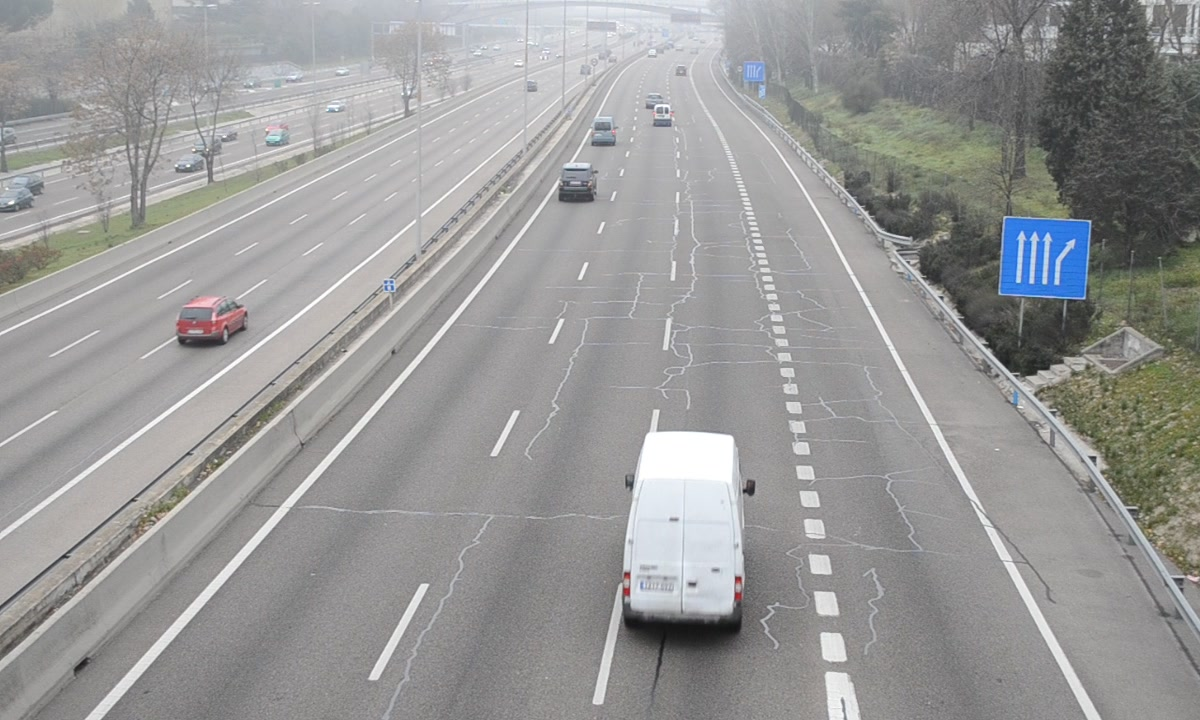car: (558, 163, 597, 201)
van: (620, 432, 744, 630), (591, 115, 613, 148)
